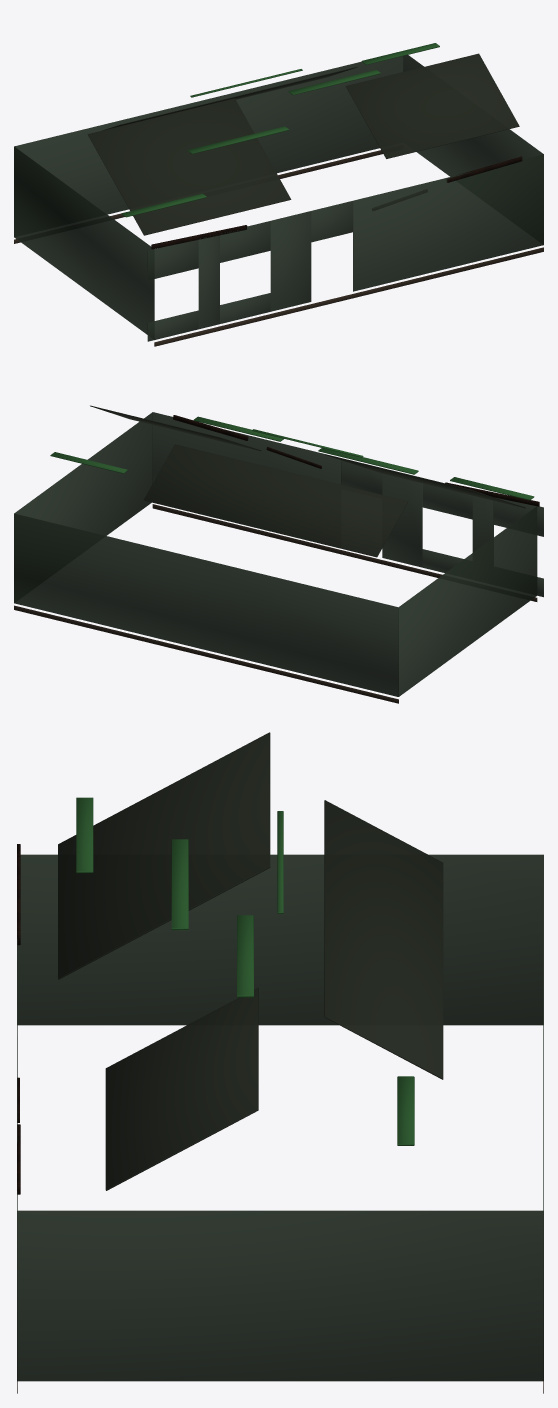
The model's file is asset_052_dilapidated_clubhouse_exterior.glb.
3 renders of one model, top to bottom at view 1: azimuth 30°, elevation 25°; view 2: azimuth 150°, elevation 25°; view 3: azimuth 270°, elevation 25°, orthographic. The views are drawn at different scales.
Visible parts, largest first — view 1: MESH_AlignedFrontWeatherSkin, MESH_AlignedRoofMoldPatches, MESH_AlignedBackWeatherSkin, MESH_AlignedWestWeatherSkin, MESH_AlignedEastWeatherSkin, MESH_HeavyRoofMoss, MESH_FoundationDampBandFront, MESH_WarpedMissingTrim, MESH_FoundationDampBandBack; view 2: MESH_AlignedBackWeatherSkin, MESH_AlignedRoofMoldPatches, MESH_AlignedFrontWeatherSkin, MESH_AlignedWestWeatherSkin, MESH_AlignedEastWeatherSkin, MESH_HeavyRoofMoss, MESH_FoundationDampBandBack, MESH_FoundationDampBandFront, MESH_WarpedMissingTrim; view 3: MESH_AlignedEastWeatherSkin, MESH_AlignedRoofMoldPatches, MESH_AlignedWestWeatherSkin, MESH_HeavyRoofMoss, MESH_WarpedMissingTrim.
Boxes of the visible parts, <box> form: MESH_AlignedFrontWeatherSkin: <box>147,154,543,341</box>; MESH_AlignedRoofMoldPatches: <box>87,53,519,235</box>; MESH_AlignedBackWeatherSkin: <box>14,56,403,214</box>; MESH_AlignedWestWeatherSkin: <box>14,146,154,334</box>; MESH_AlignedEastWeatherSkin: <box>403,55,543,176</box>; MESH_HeavyRoofMoss: <box>121,43,439,217</box>; MESH_FoundationDampBandFront: <box>154,247,543,346</box>; MESH_WarpedMissingTrim: <box>151,156,522,249</box>; MESH_FoundationDampBandBack: <box>14,150,382,243</box>; MESH_AlignedBackWeatherSkin: <box>14,513,398,696</box>; MESH_AlignedRoofMoldPatches: <box>90,405,525,557</box>; MESH_AlignedFrontWeatherSkin: <box>153,412,543,597</box>; MESH_AlignedWestWeatherSkin: <box>399,506,537,696</box>; MESH_AlignedEastWeatherSkin: <box>14,412,152,535</box>; MESH_HeavyRoofMoss: <box>50,416,534,500</box>; MESH_FoundationDampBandBack: <box>14,605,398,703</box>; MESH_FoundationDampBandFront: <box>152,504,537,601</box>; MESH_WarpedMissingTrim: <box>173,415,539,506</box>; MESH_AlignedEastWeatherSkin: <box>17,1210,543,1381</box>; MESH_AlignedRoofMoldPatches: <box>58,732,443,1190</box>; MESH_AlignedWestWeatherSkin: <box>17,854,543,1025</box>; MESH_HeavyRoofMoss: <box>76,797,414,1145</box>; MESH_WarpedMissingTrim: <box>17,844,20,1194</box>.
Bounding box in the file's own units: 17.35 × 7.13 × 10.56.
Materials: 6 (1 with a texture image).
